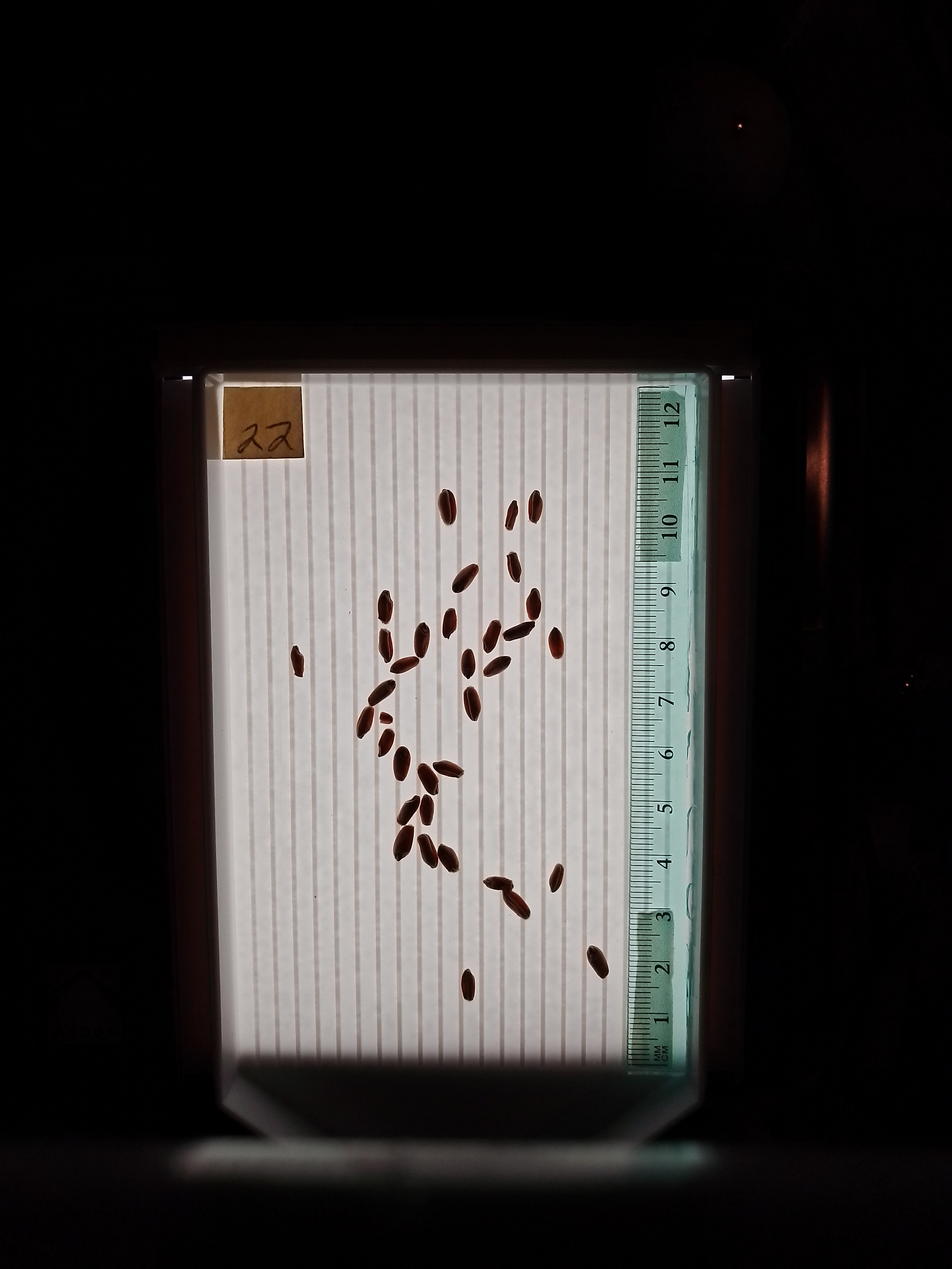seed mask: (503, 887, 531, 920), (453, 564, 478, 594), (417, 763, 439, 794), (587, 947, 609, 978), (418, 834, 438, 868), (368, 680, 394, 706), (394, 827, 413, 861), (439, 490, 457, 525), (504, 621, 534, 641), (463, 687, 480, 721), (394, 747, 411, 780), (414, 623, 430, 658), (484, 656, 510, 677), (398, 797, 419, 823), (484, 621, 501, 653), (439, 845, 459, 872), (357, 707, 374, 738), (434, 760, 463, 778), (526, 589, 542, 620), (528, 491, 543, 523), (392, 656, 418, 674), (378, 591, 393, 622), (549, 629, 564, 658), (379, 630, 393, 661), (420, 795, 434, 826), (461, 970, 475, 1001), (378, 730, 394, 757), (485, 876, 513, 891), (507, 553, 521, 582), (443, 609, 457, 637), (291, 646, 304, 676), (550, 865, 564, 891), (462, 650, 475, 677), (506, 502, 519, 529)
